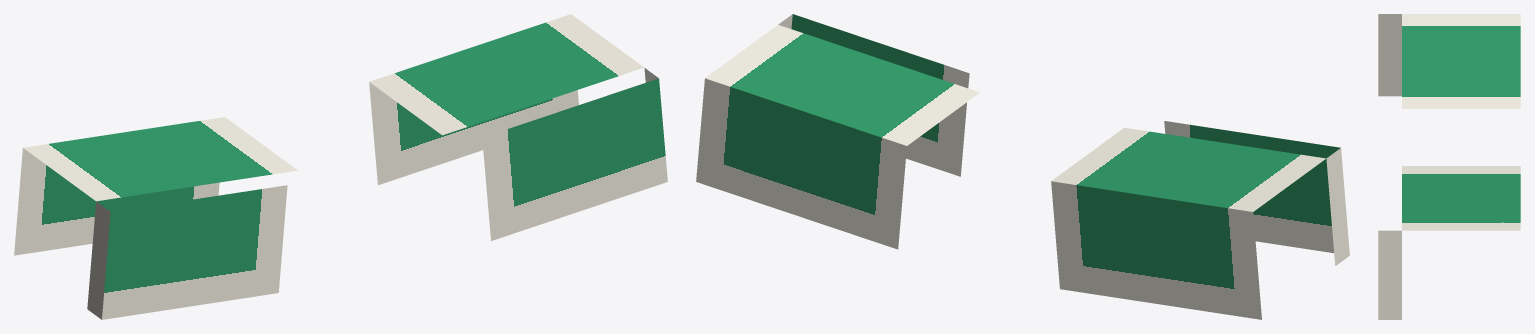
The model's file is pauldrons_guardian.fbx.
3 views of the same model, side by side, from view 1: azimuth 30°, elevation 25°; view 2: azimuth 150°, elevation 25°; view 3: azimuth 270°, elevation 25° (orthographic). The views are drawn at different scales.
Parts seen in each view (by area): view 1: paldron, paldron.001; view 2: paldron.001, paldron; view 3: paldron.001, paldron.
Boxes of the visible parts, <box> form: paldron: <box>369,14,667,240</box>; paldron.001: <box>14,117,297,319</box>; paldron.001: <box>1051,121,1349,319</box>; paldron: <box>696,14,979,249</box>; paldron.001: <box>1378,14,1520,108</box>; paldron: <box>1378,166,1520,319</box>.
Bounding box in the file's own units: 139 × 29.26 × 37.5.
Materials: 1 (1 with a texture image).
